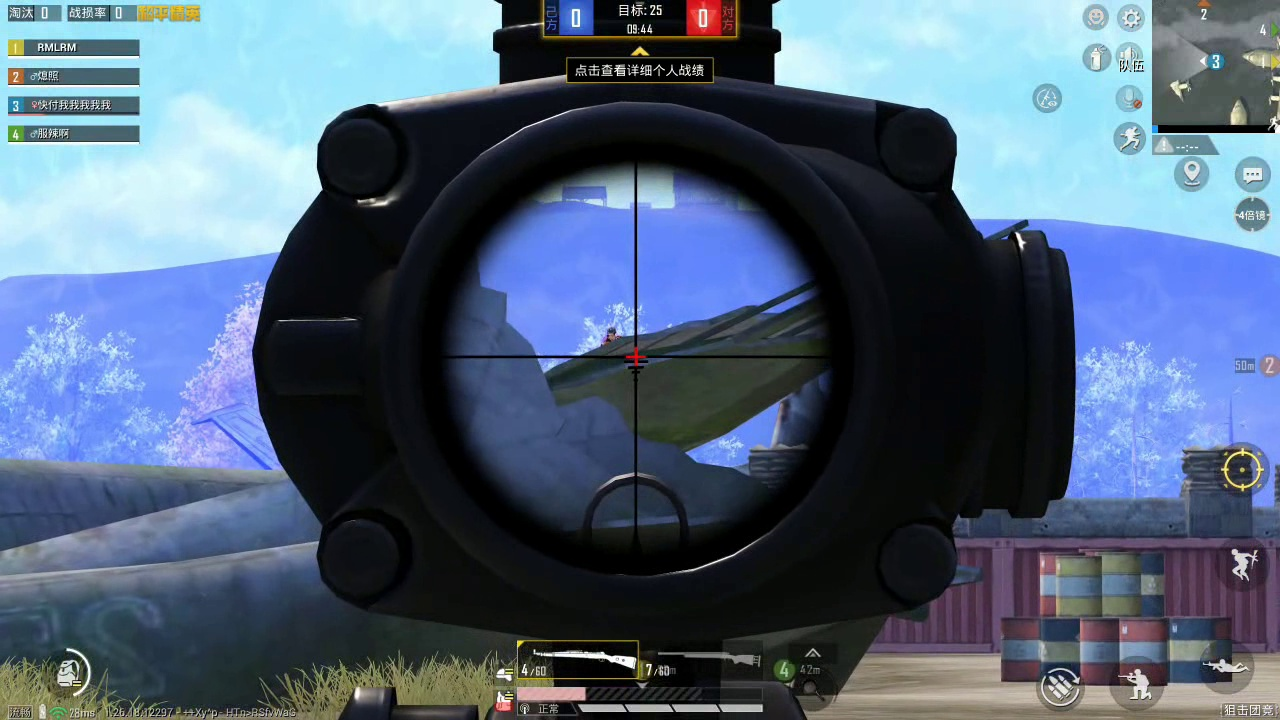enemy: (600, 326, 623, 346)
